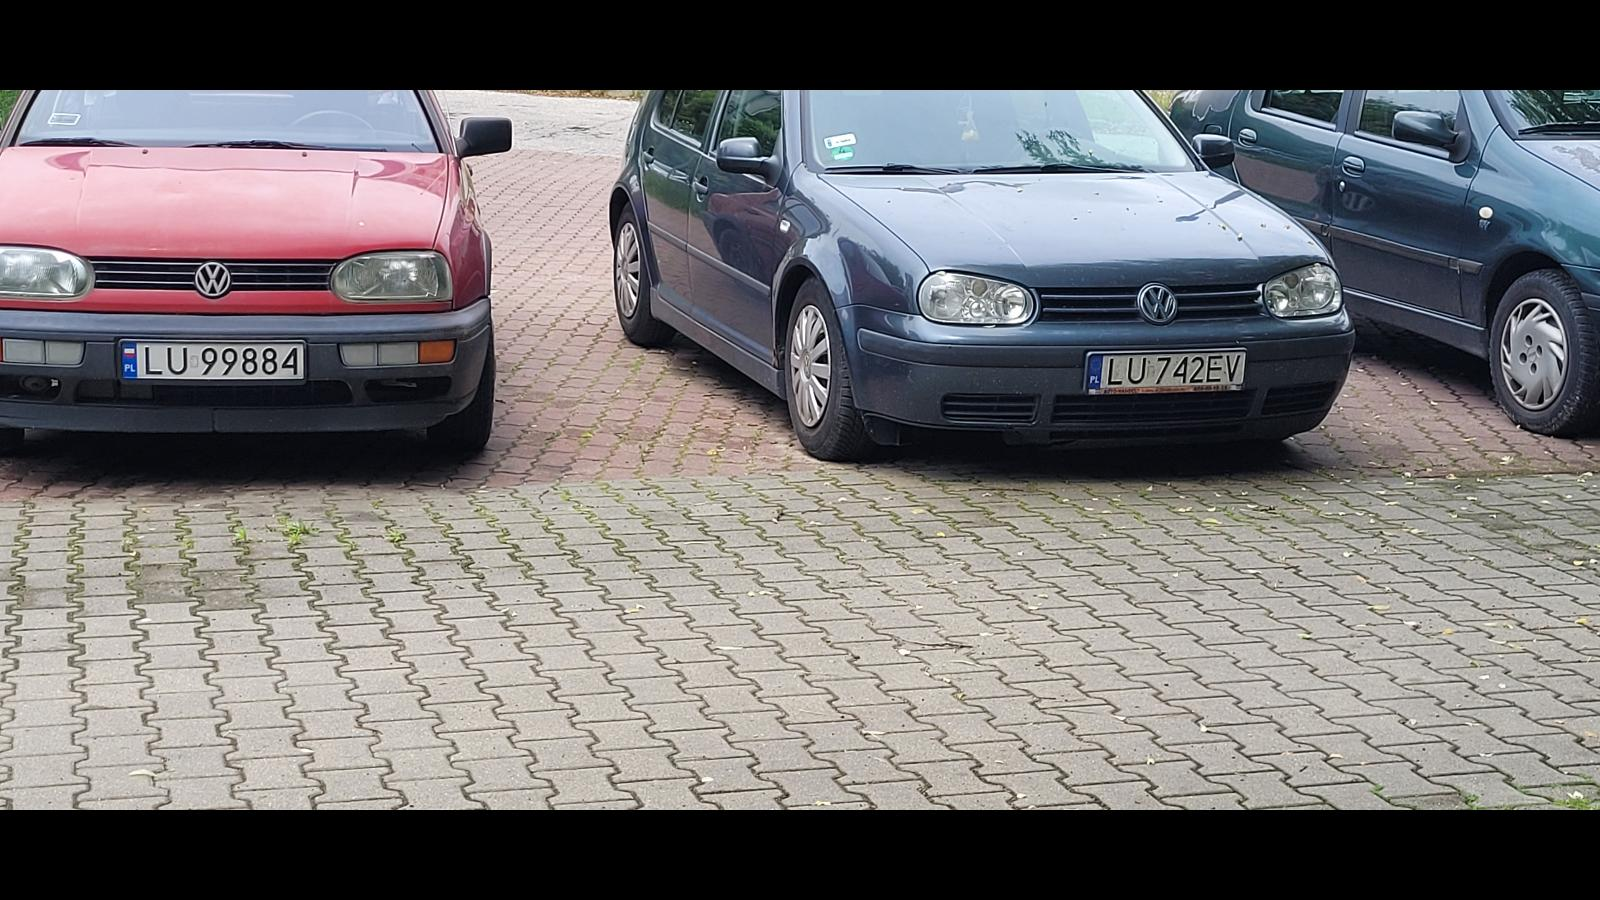plates: (120, 338, 308, 386), (1084, 348, 1248, 400)
